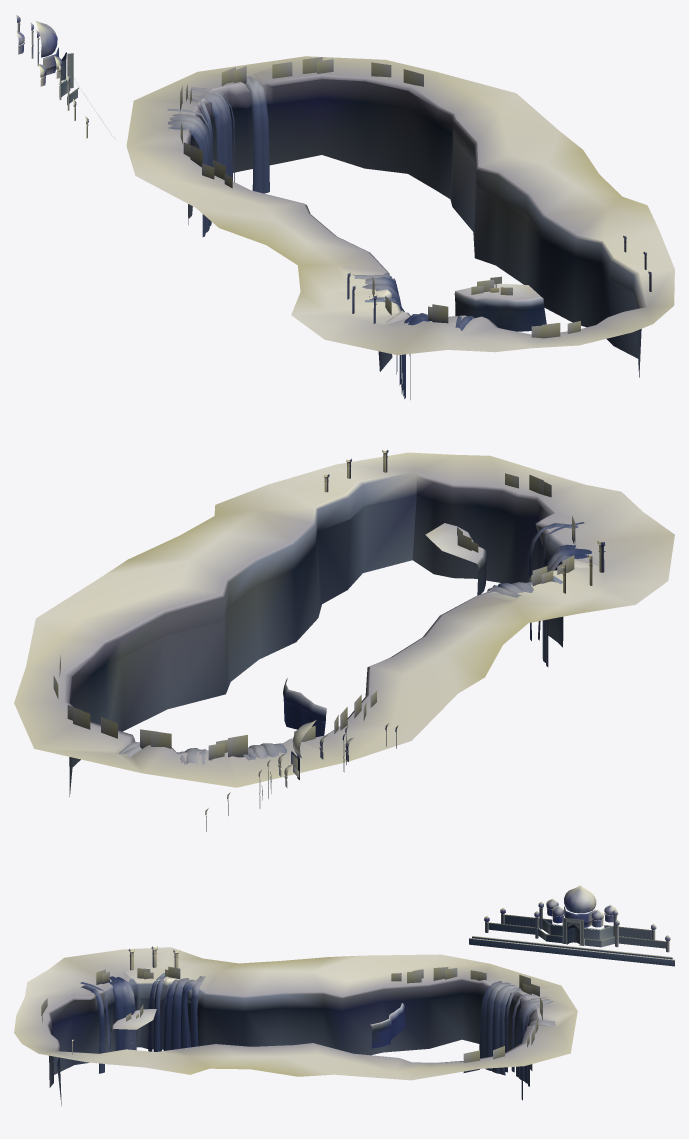
Rendered from 00Exterior.gltf.
3 views of the same model, one above another, from view 1: azimuth 30°, elevation 25°; view 2: azimuth 150°, elevation 25°; view 3: azimuth 270°, elevation 25° (orthographic). The views are drawn at different scales.
Visible parts, largest first — view 1: stg011_o09_Mesh_0010, stg011_o07_Mesh_0010, stg011_o07_Mesh_0009, stg011_sandfalls_11_Mesh_0000, stg011_p_Mesh_0011, stg011_sandfalls_11_Mesh_0001, stg011_o10_Mesh_0007, stg011_o10_Mesh_0000; view 2: stg011_o09_Mesh_0010, stg011_o07_Mesh_0010, stg011_o07_Mesh_0009, stg011_p_Mesh_0011, stg011_sandfalls_11_Mesh_0000, stg011_sandfalls_11_Mesh_0001, stg011_o10_Mesh_0000, stg011_o10_Mesh_0007; view 3: stg011_o09_Mesh_0010, stg011_o07_Mesh_0010, stg011_o07_Mesh_0009, stg011_sandfalls_11_Mesh_0000, stg011_o10_Mesh_0001, stg011_sandfalls_11_Mesh_0001, stg011_p_Mesh_0011, stg011_o10_Mesh_0007, stg011_o10_Mesh_0000, stg011_o10_Mesh_0005.
Boxes of the visible parts, x1,y1,x2,y2 form: stg011_o09_Mesh_0010: [126, 56, 674, 355]; stg011_o07_Mesh_0010: [188, 99, 641, 394]; stg011_o07_Mesh_0009: [185, 74, 646, 328]; stg011_sandfalls_11_Mesh_0000: [167, 76, 474, 399]; stg011_p_Mesh_0011: [180, 57, 580, 338]; stg011_sandfalls_11_Mesh_0001: [168, 88, 427, 389]; stg011_o10_Mesh_0007: [16, 15, 88, 123]; stg011_o10_Mesh_0000: [17, 24, 651, 323]; stg011_o09_Mesh_0010: [14, 452, 674, 787]; stg011_o07_Mesh_0010: [69, 495, 563, 796]; stg011_o07_Mesh_0009: [64, 471, 599, 753]; stg011_p_Mesh_0011: [53, 473, 575, 760]; stg011_sandfalls_11_Mesh_0000: [118, 522, 587, 764]; stg011_sandfalls_11_Mesh_0001: [184, 548, 591, 764]; stg011_o10_Mesh_0000: [206, 457, 604, 831]; stg011_o10_Mesh_0007: [205, 720, 398, 815]; stg011_o09_Mesh_0010: [14, 947, 577, 1080]; stg011_o07_Mesh_0010: [49, 993, 532, 1105]; stg011_o07_Mesh_0009: [46, 971, 539, 1064]; stg011_sandfalls_11_Mesh_0000: [80, 973, 555, 1100]; stg011_o10_Mesh_0001: [469, 915, 674, 966]; stg011_sandfalls_11_Mesh_0001: [110, 976, 551, 1081]; stg011_p_Mesh_0011: [41, 966, 542, 1072]; stg011_o10_Mesh_0007: [484, 885, 670, 941]; stg011_o10_Mesh_0000: [72, 907, 669, 1054]; stg011_o10_Mesh_0005: [488, 914, 665, 945].
Size of the model in its own units: 306 by 148 by 605.
